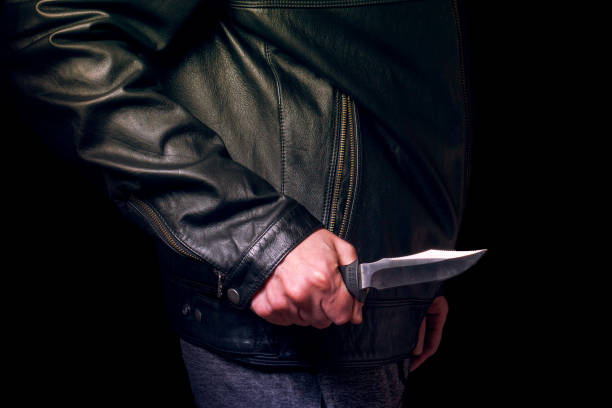knife: (213, 248, 489, 301)
